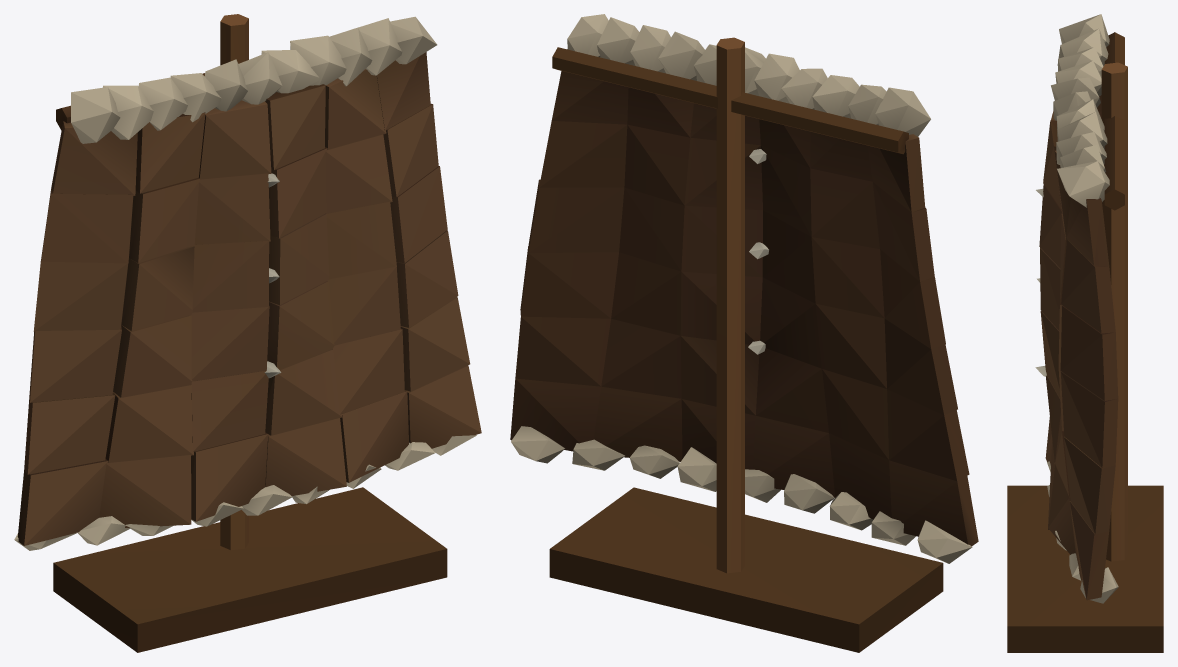
3 renders of one model, left to right at view 1: azimuth 30°, elevation 25°; view 2: azimuth 150°, elevation 25°; view 3: azimuth 270°, elevation 25°, orthographic. The views are drawn at different scales.
Parts seen in each view (by area): view 1: base; view 2: base; view 3: base.
Boxes of the visible parts, x1=… form: base: x1=14, y1=14, x2=481, y2=652; base: x1=510, y1=14, x2=978, y2=652; base: x1=1007, y1=14, x2=1163, y2=652.
Size of the model in its own units: 0.5088 by 0.58 by 0.16.
